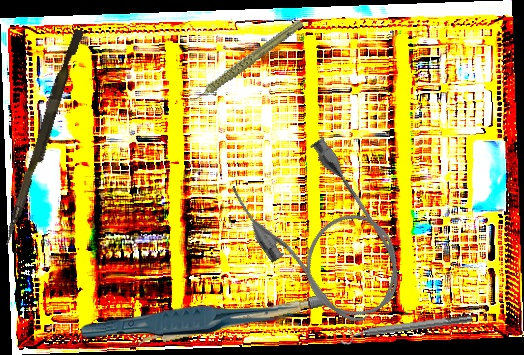Cannula: (223, 127, 423, 345)
Fixation Ring: (338, 308, 474, 347)
Handpiece: (173, 17, 316, 105)
Pusher: (3, 26, 84, 249)
Scalpel Handle: (136, 293, 329, 349)
Tissue Forceps: (80, 304, 304, 339)
